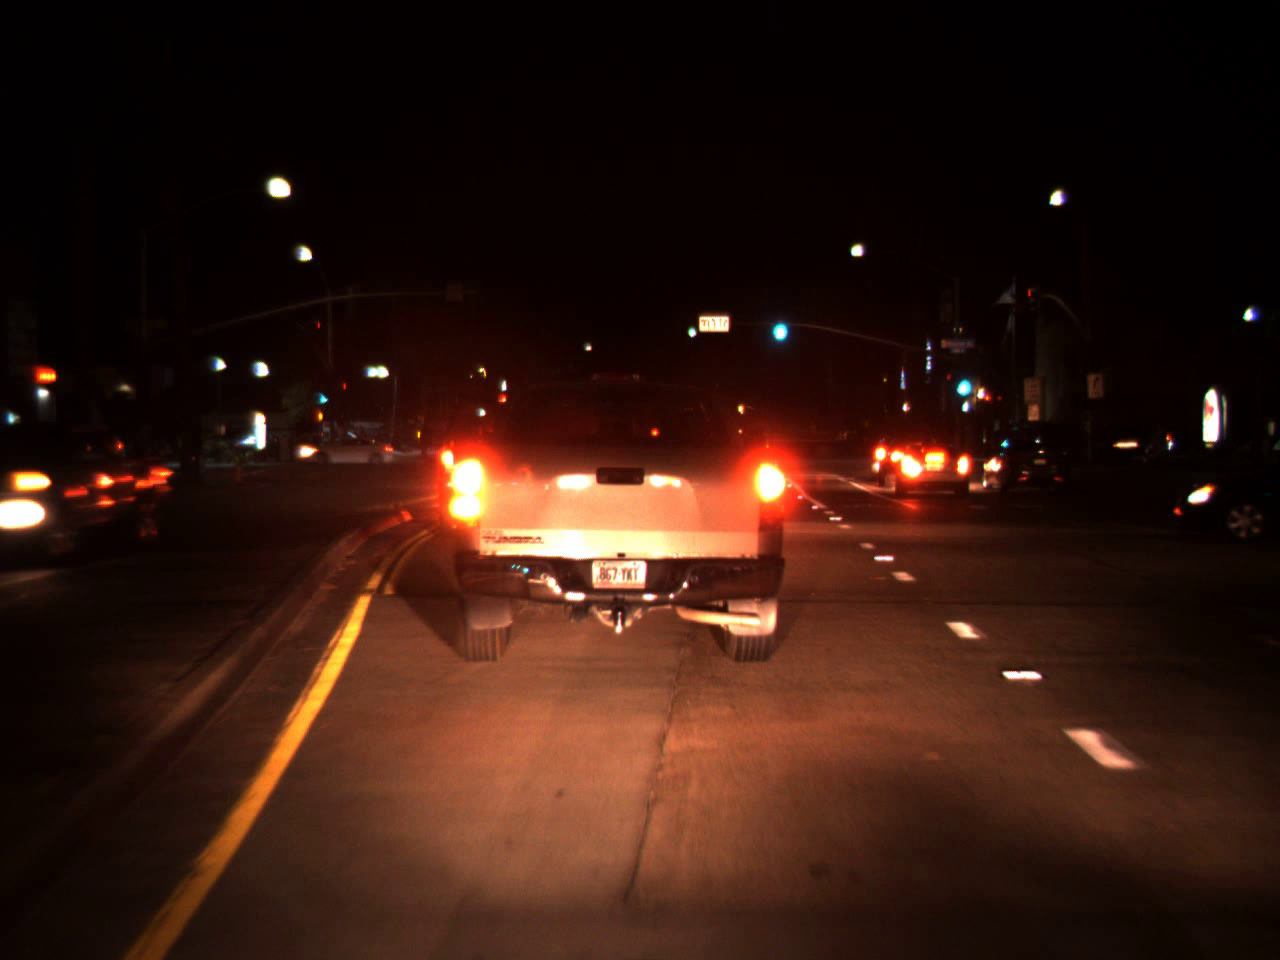go: (949, 356, 976, 404), (767, 304, 790, 343), (686, 317, 696, 341), (317, 385, 327, 406)
